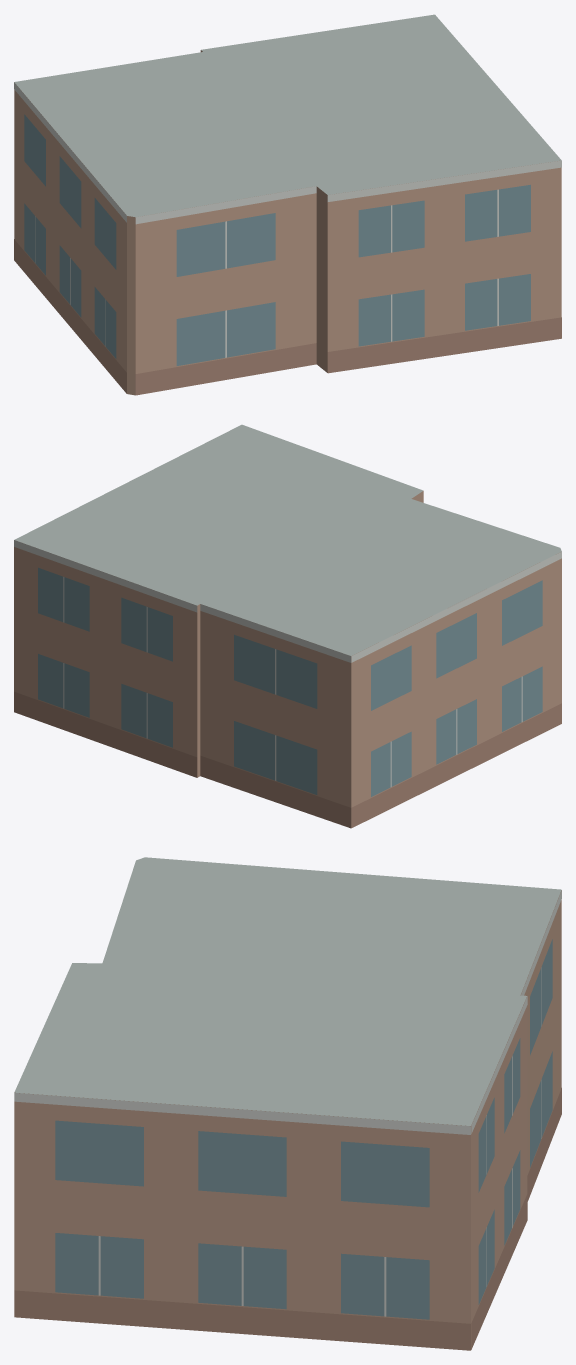
Rendered from survey-upis-33030635.glb.
3 views of the same model, one above another, from view 1: azimuth 30°, elevation 25°; view 2: azimuth 150°, elevation 25°; view 3: azimuth 270°, elevation 25° (orthographic). The views are drawn at different scales.
Parts seen in each view (by area): view 1: survey-upis-33030635.tmp; view 2: survey-upis-33030635.tmp; view 3: survey-upis-33030635.tmp.
Part boxes in pixels (left/top/right/bottom): survey-upis-33030635.tmp: left=14, top=14, right=561, bottom=395; survey-upis-33030635.tmp: left=14, top=424, right=561, bottom=828; survey-upis-33030635.tmp: left=14, top=857, right=561, bottom=1350.
Size of the model in its own units: 15.68 by 6.1 by 13.49.
